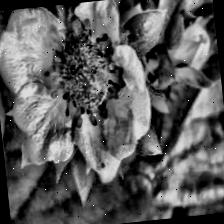Blossom Blight: (36, 13, 130, 134)
